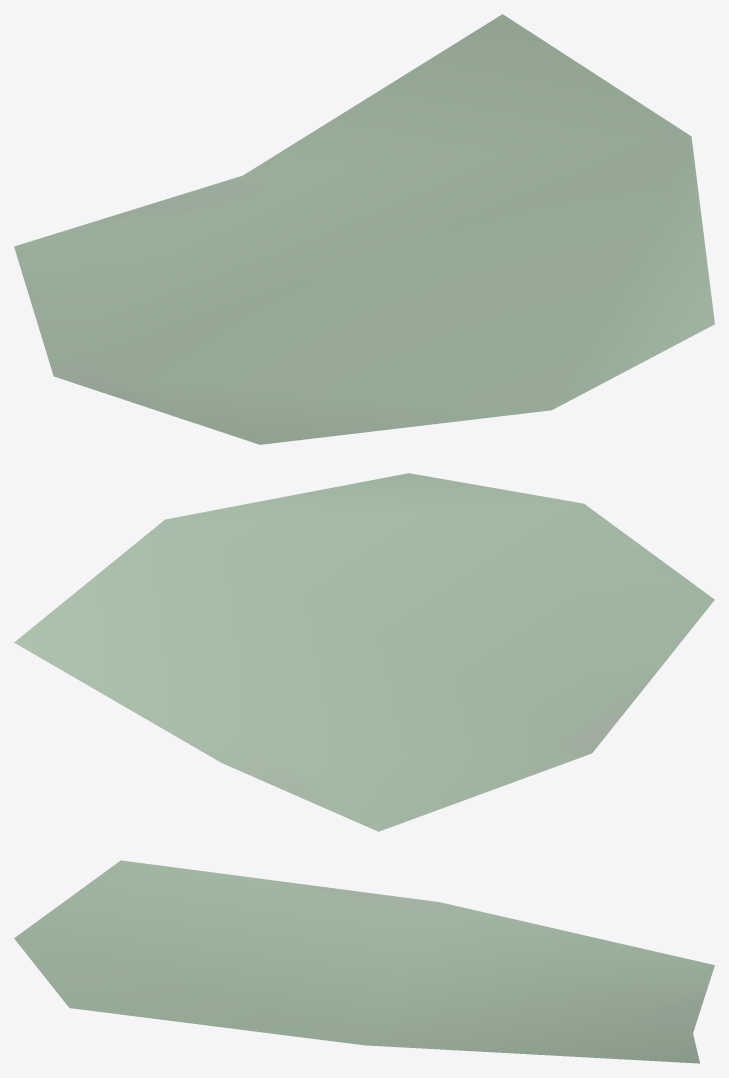
Rendered from TROLLHOLE02_HOLECAP120.fbx.
The picture shows the model from 3 angles, top to bottom: view 1: azimuth 30°, elevation 25°; view 2: azimuth 150°, elevation 25°; view 3: azimuth 270°, elevation 25°; orthographic projection. The views are drawn at different scales.
Parts seen in each view (by area): view 1: TROLLHOLE02_HOLECAP120; view 2: TROLLHOLE02_HOLECAP120; view 3: TROLLHOLE02_HOLECAP120.
Boxes of the visible parts, x1,y1,x2,y2 form: TROLLHOLE02_HOLECAP120: (14,14,714,444); TROLLHOLE02_HOLECAP120: (14,473,714,831); TROLLHOLE02_HOLECAP120: (14,860,714,1063).
Size of the model in its own units: 12936 by 2907 by 15045.
1 material, 1 textured.
